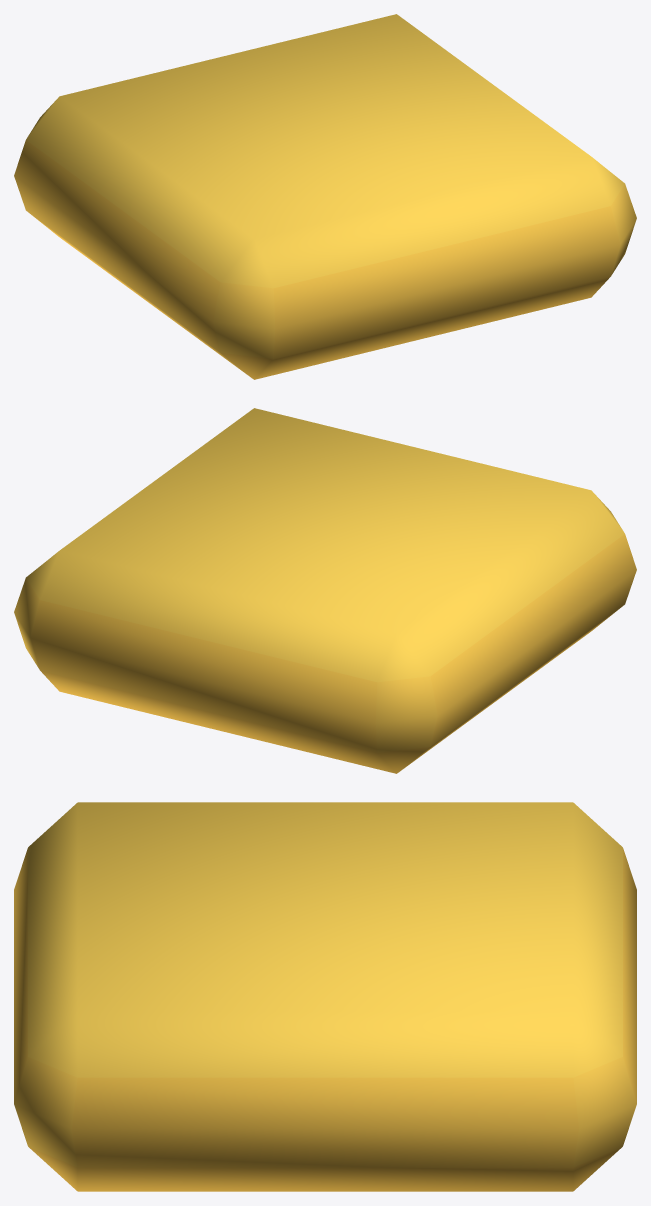
The model's file is towel_yellow.fbx.
3 renders of one model, top to bottom at view 1: azimuth 30°, elevation 25°; view 2: azimuth 150°, elevation 25°; view 3: azimuth 270°, elevation 25°, orthographic. The views are drawn at different scales.
Parts seen in each view (by area): view 1: towel_yellow; view 2: towel_yellow; view 3: towel_yellow.
Boxes of the visible parts, x1=… form: towel_yellow: x1=14, y1=14, x2=636, y2=379; towel_yellow: x1=14, y1=408, x2=636, y2=773; towel_yellow: x1=14, y1=802, x2=636, y2=1191.
Size of the model in its own units: 0.6284 by 0.2 by 0.6284.
